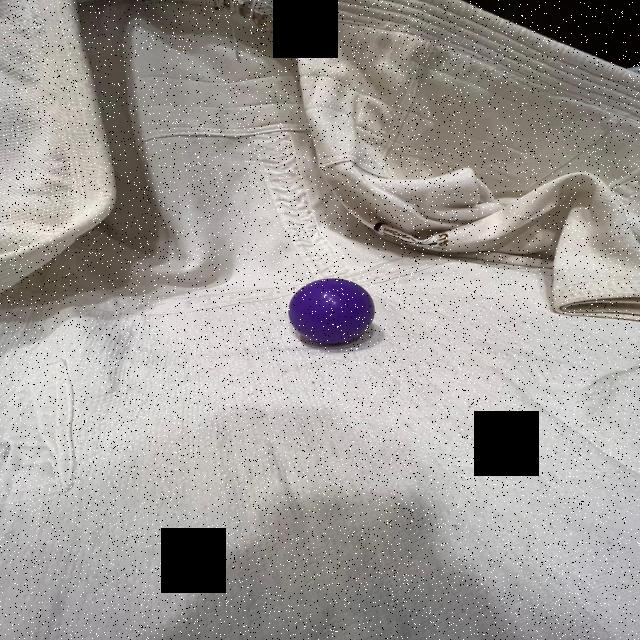ball: (285, 274, 378, 347)
